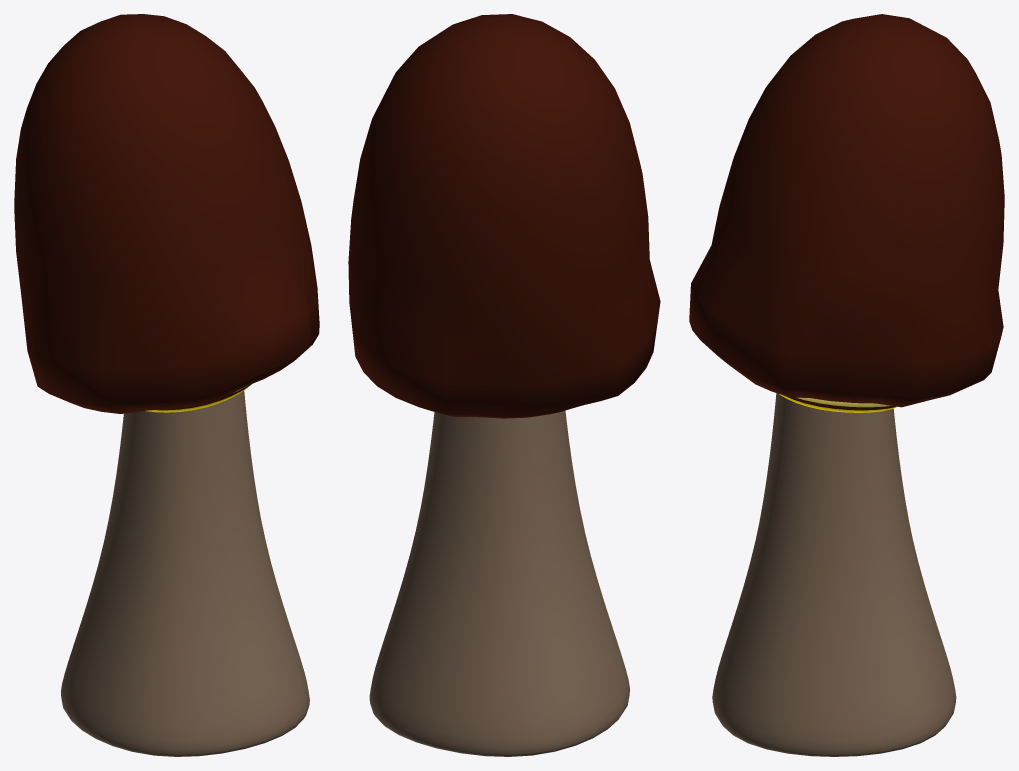
File: Deko Shroom.fbx
The picture shows the model from 3 angles, left to right: view 1: azimuth 30°, elevation 25°; view 2: azimuth 150°, elevation 25°; view 3: azimuth 270°, elevation 25°; orthographic projection. The views are drawn at different scales.
Visible parts, largest first — view 1: Cap Steinpilz, Stiel Steinpilz; view 2: Cap Steinpilz, Stiel Steinpilz; view 3: Cap Steinpilz, Stiel Steinpilz.
Part boxes in pixels (x1,y1,x2,y2): Cap Steinpilz: (14,14,319,413); Stiel Steinpilz: (60,390,309,756); Cap Steinpilz: (348,14,660,418); Stiel Steinpilz: (369,410,629,756); Cap Steinpilz: (689,14,1004,412); Stiel Steinpilz: (712,393,956,756).
Bounding box in the file's own units: 92.14 × 232 × 98.59.
